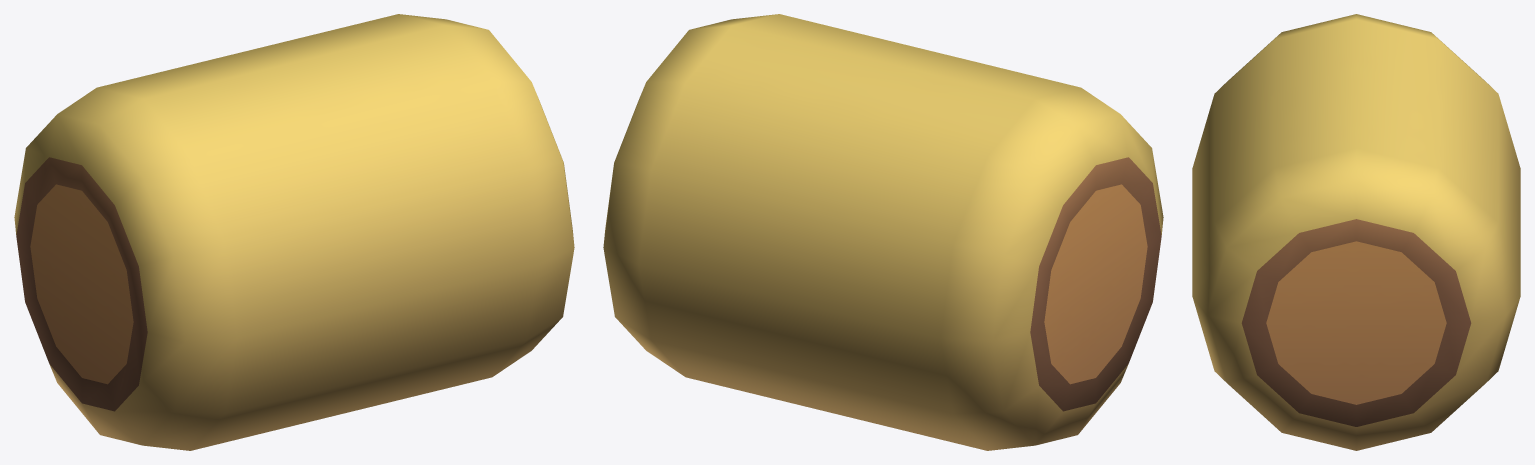
File: Yellow_Wood.fbx
3 views of the same model, side by side, from view 1: azimuth 30°, elevation 25°; view 2: azimuth 150°, elevation 25°; view 3: azimuth 270°, elevation 25° (orthographic). The views are drawn at different scales.
Visible parts, largest first — view 1: Yellow_Wood; view 2: Yellow_Wood; view 3: Yellow_Wood.
Part boxes in pixels (<box>): Yellow_Wood: <box>14,14,574,450</box>; Yellow_Wood: <box>603,14,1163,450</box>; Yellow_Wood: <box>1192,14,1520,450</box>.
Size of the model in its own units: 0.9486 by 0.7256 by 0.7256.
